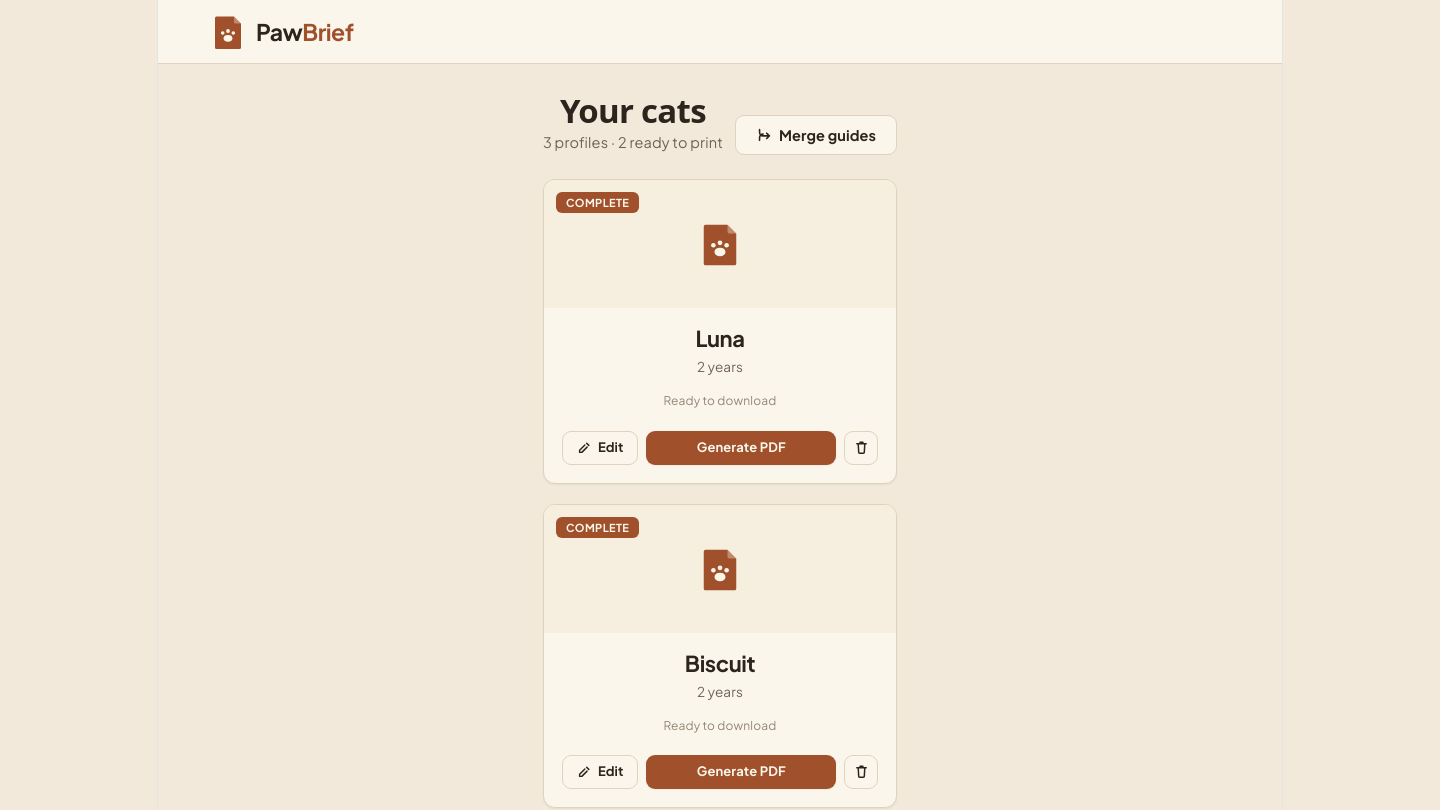
Test case: DashboardPage merge mode › incomplete profiles have no checkbox in merge mode
Click the button "Merge guides": (816,135) left=735, top=115, right=897, bottom=155
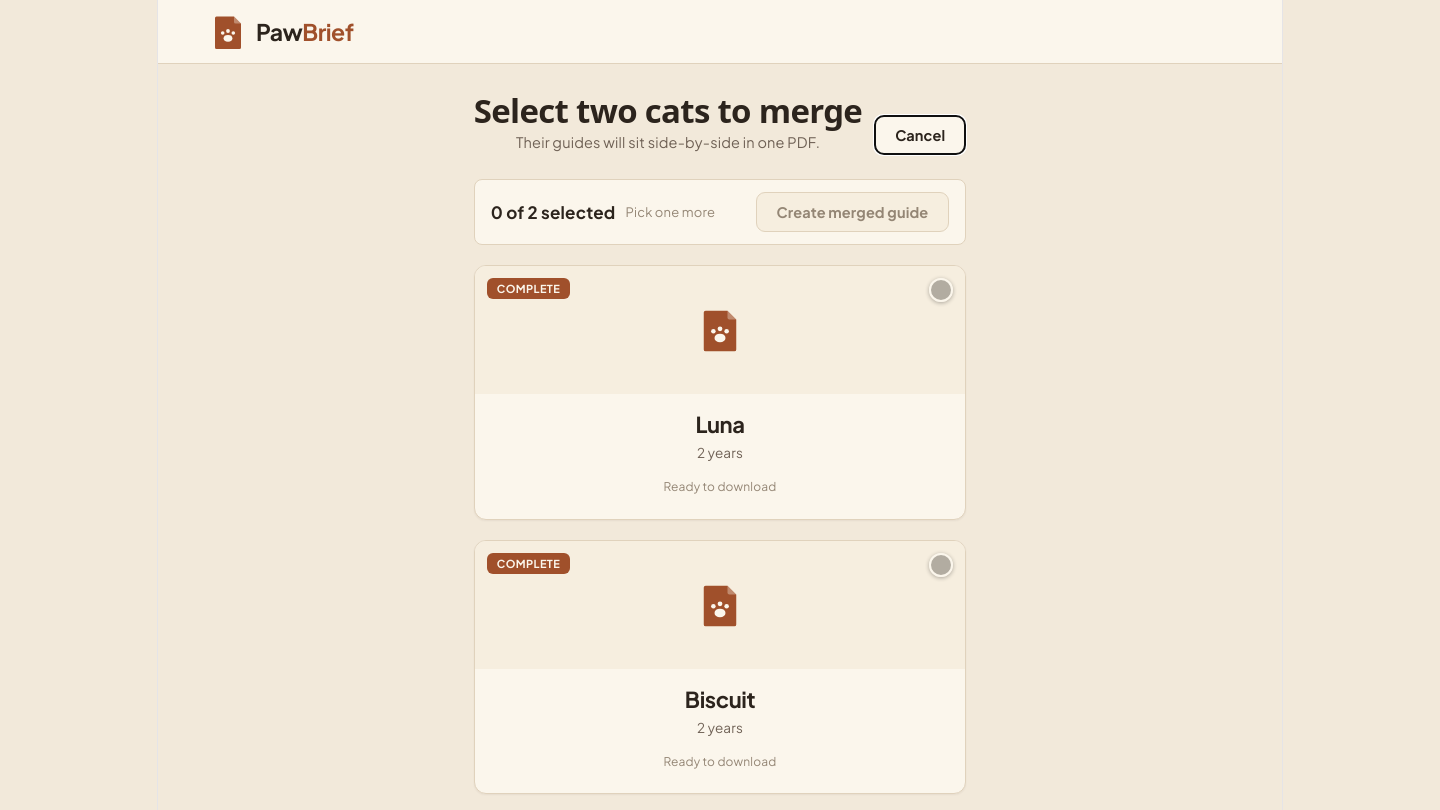
Expected: the number of checkboxes is 2, left=929, top=278, right=953, bottom=302; left=929, top=553, right=953, bottom=577
